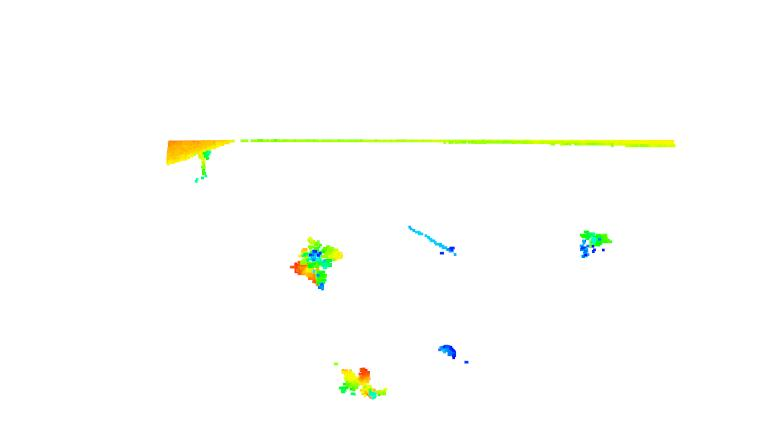chickpea: (285, 240, 348, 297), (336, 355, 390, 407), (569, 229, 619, 264)
